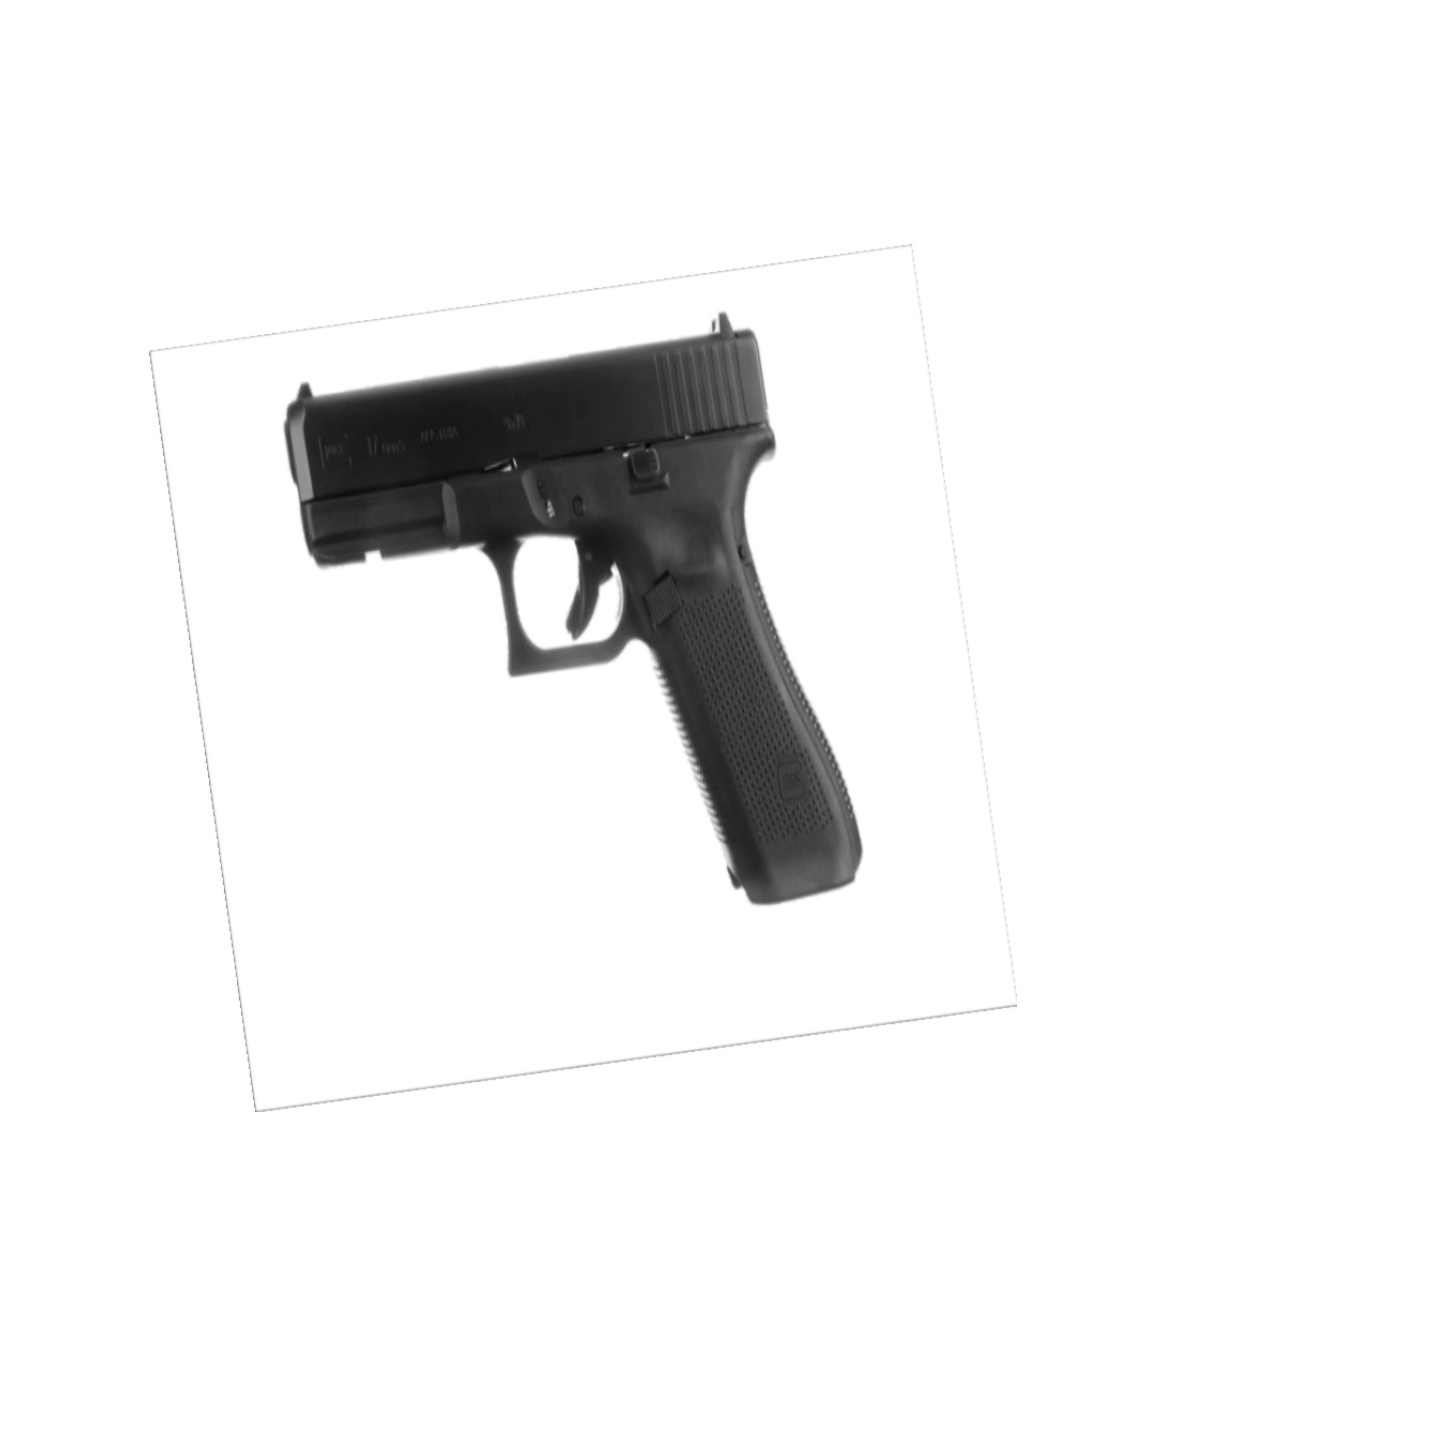gun: (282, 316, 866, 905)
